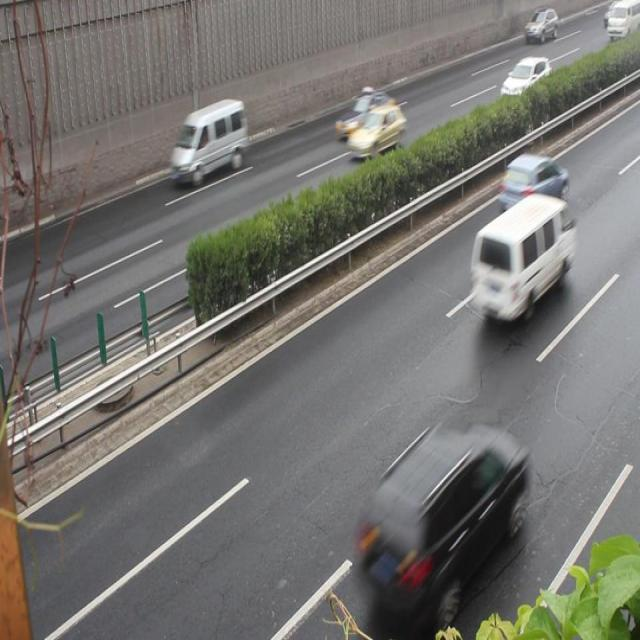car: (362, 427, 522, 596), (498, 152, 568, 215), (345, 104, 405, 159), (335, 90, 395, 142), (499, 55, 551, 100)
truck: (469, 194, 572, 320), (170, 100, 246, 182)
